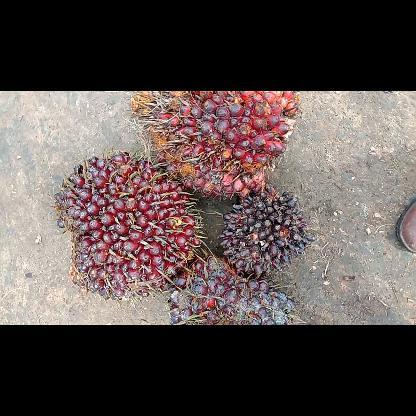Kurang masak: (52, 149, 202, 303), (166, 252, 300, 324)
TBS abnormal: (216, 183, 318, 281)
TBS masak: (127, 90, 301, 202)
